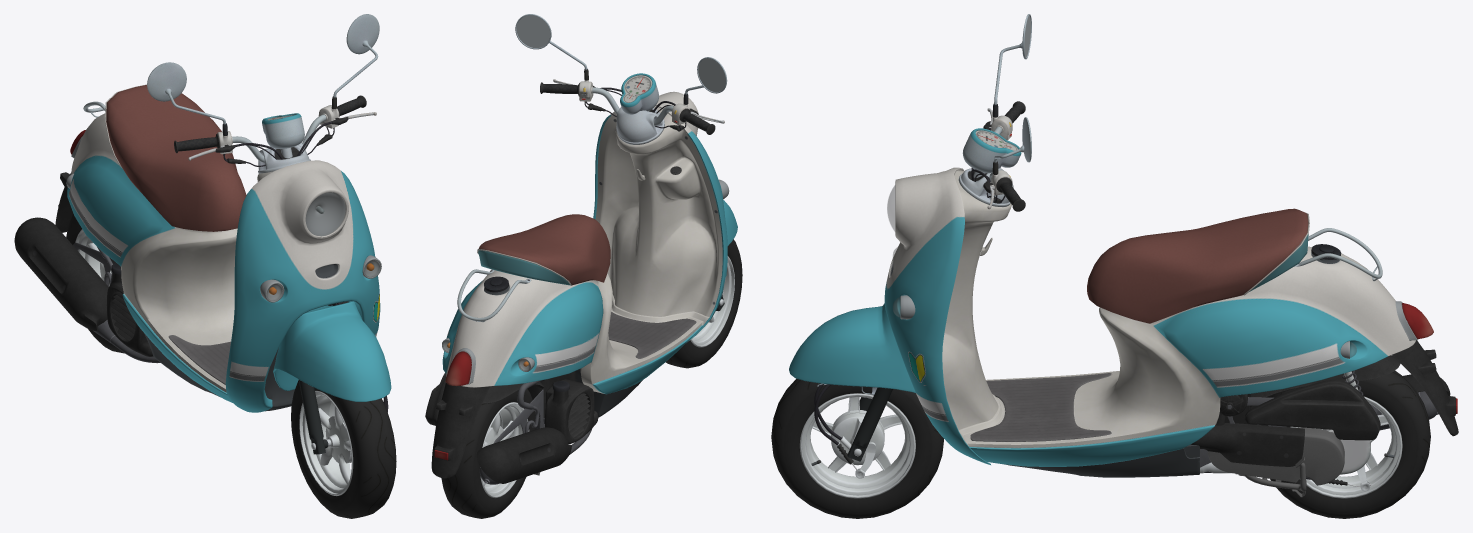
The model's file is vino.glb.
3 views of the same model, side by side, from view 1: azimuth 30°, elevation 25°; view 2: azimuth 150°, elevation 25°; view 3: azimuth 270°, elevation 25° (orthographic). The views are drawn at different scales.
Parts seen in each view (by area): view 1: Plane003_Main Body_0, Sphere001_Tire_0, Sphere001_Main Body_0, Plane003_SmallParts_0, Sphere001_SmallParts_0, Plane003_Lamp & Glass_0, Plane003_Glass_0, Plane003_Tire_0; view 2: Plane003_Main Body_0, Plane003_SmallParts_0, Sphere001_SmallParts_0, Plane003_Tire_0, Sphere001_Tire_0, Plane003_Lamp & Glass_0, Sphere001_Glass_0, Sphere001_Main Body_0; view 3: Plane003_Main Body_0, Plane003_SmallParts_0, Sphere001_Tire_0, Plane003_Tire_0, Sphere001_Main Body_0, Sphere001_SmallParts_0, Plane003_Lamp & Glass_0.
Boxes of the visible parts, box(x1,y1,x2,y2) form: Plane003_Main Body_0: box(67, 84, 380, 412); Sphere001_Tire_0: box(291, 380, 396, 518); Sphere001_Main Body_0: box(273, 301, 391, 454); Plane003_SmallParts_0: box(14, 101, 160, 363); Sphere001_SmallParts_0: box(147, 14, 388, 449); Plane003_Lamp & Glass_0: box(66, 130, 381, 302); Plane003_Glass_0: box(67, 176, 381, 301); Plane003_Tire_0: box(66, 214, 124, 353); Plane003_Main Body_0: box(442, 91, 727, 417); Plane003_SmallParts_0: box(425, 269, 598, 484); Sphere001_SmallParts_0: box(515, 14, 727, 305); Plane003_Tire_0: box(441, 389, 536, 518); Sphere001_Tire_0: box(666, 239, 742, 368); Plane003_Lamp & Glass_0: box(434, 179, 729, 460); Sphere001_Glass_0: box(623, 75, 651, 102); Sphere001_Main Body_0: box(716, 200, 737, 311); Plane003_Main Body_0: box(884, 167, 1415, 477); Plane003_SmallParts_0: box(1191, 228, 1458, 497); Sphere001_Tire_0: box(771, 378, 943, 518); Plane003_Tire_0: box(1261, 370, 1430, 518); Sphere001_Main Body_0: box(789, 303, 915, 461); Sphere001_SmallParts_0: box(814, 14, 1031, 478); Plane003_Lamp & Glass_0: box(900, 295, 1457, 413).
Bounding box in the file's own units: 0.6794 × 1.16 × 1.62.
Materials: 6 (6 with a texture image).
